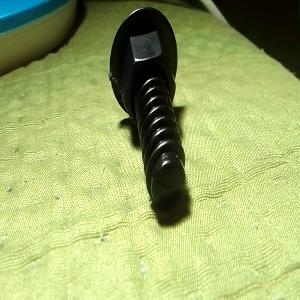parafuso: (107, 5, 188, 209)
